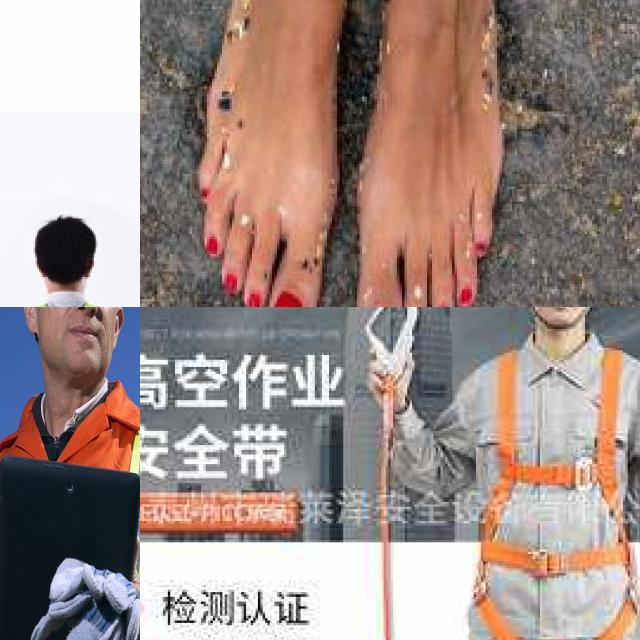Barefoots: (176, 0, 361, 307), (355, 0, 509, 307)
Harness: (464, 340, 640, 640)
No_Ear-Protection: (22, 307, 39, 337), (113, 307, 124, 349)
face_nomask: (40, 307, 117, 375)
